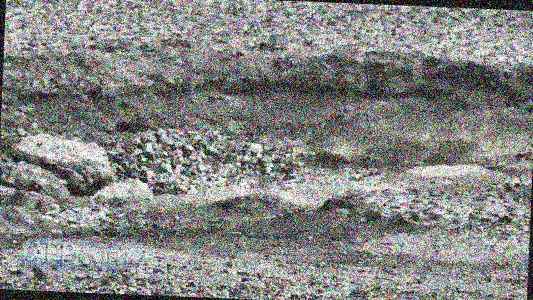pothole: (0, 27, 533, 256)
